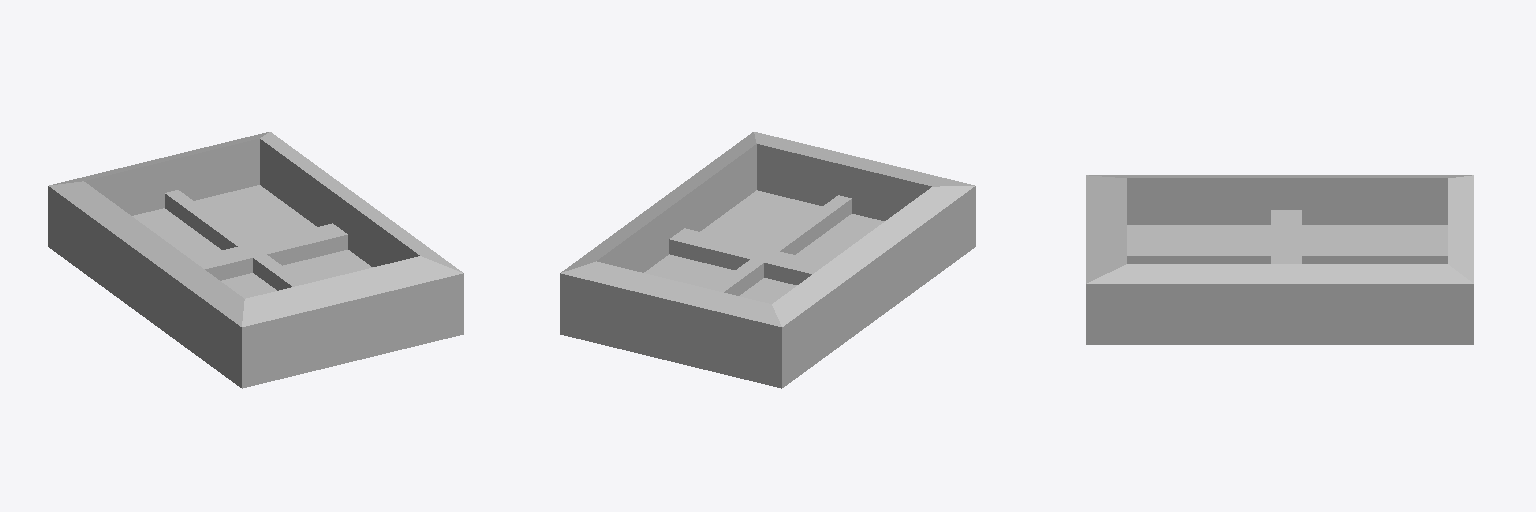
File: window_t1.obj
3 renders of one model, left to right at view 1: azimuth 30°, elevation 25°; view 2: azimuth 150°, elevation 25°; view 3: azimuth 270°, elevation 25°, orthographic.
Parts seen in each view (by area): view 1: pCube1, pCube2; view 2: pCube1, pCube2; view 3: pCube1, pCube2.
Boxes of the visible parts, x1=… form: pCube1: x1=48, y1=132, x2=463, y2=388; pCube2: x1=165, y1=190, x2=347, y2=290; pCube1: x1=560, y1=132, x2=975, y2=388; pCube2: x1=669, y1=195, x2=851, y2=295; pCube1: x1=1086, y1=175, x2=1473, y2=344; pCube2: x1=1127, y1=210, x2=1447, y2=263.
Size of the model in its own units: 10.42 by 3.11 by 15.74.